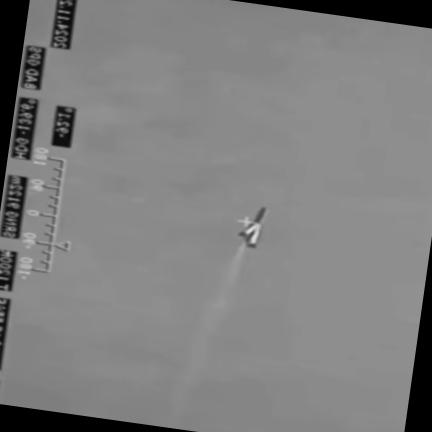Shahed: (236, 206, 267, 248)
